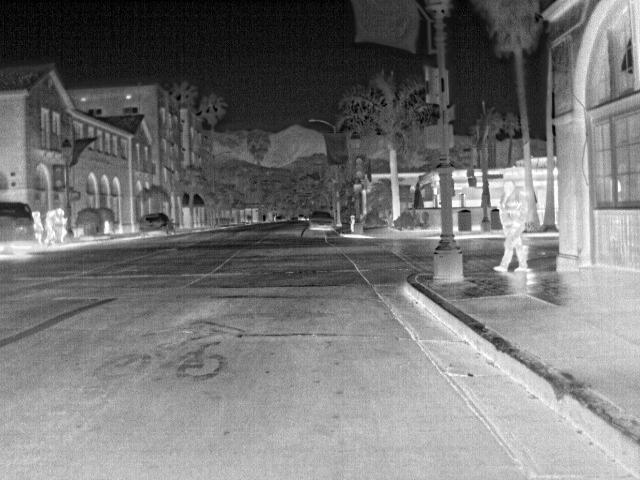car: (0, 200, 38, 246), (136, 212, 175, 237), (306, 210, 336, 231)
person: (492, 179, 531, 272), (58, 206, 71, 243), (30, 209, 44, 243), (46, 208, 59, 242)
